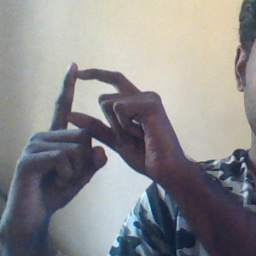D: (38, 55, 152, 164)
